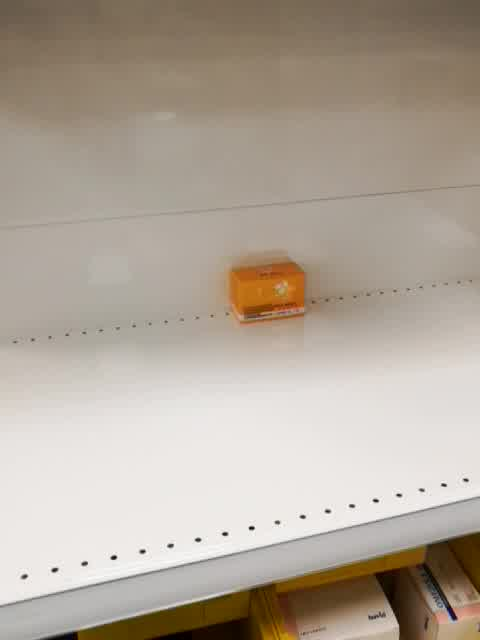jasminetea: (228, 260, 308, 325)
